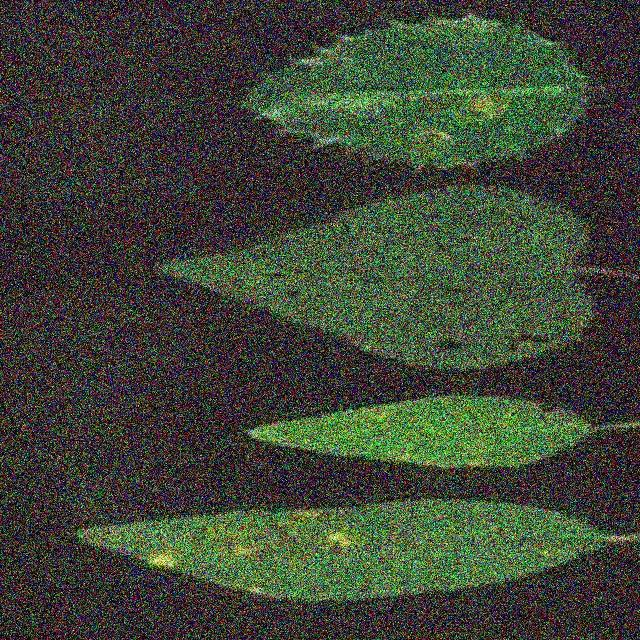shot_hole: (130, 181, 612, 368)
